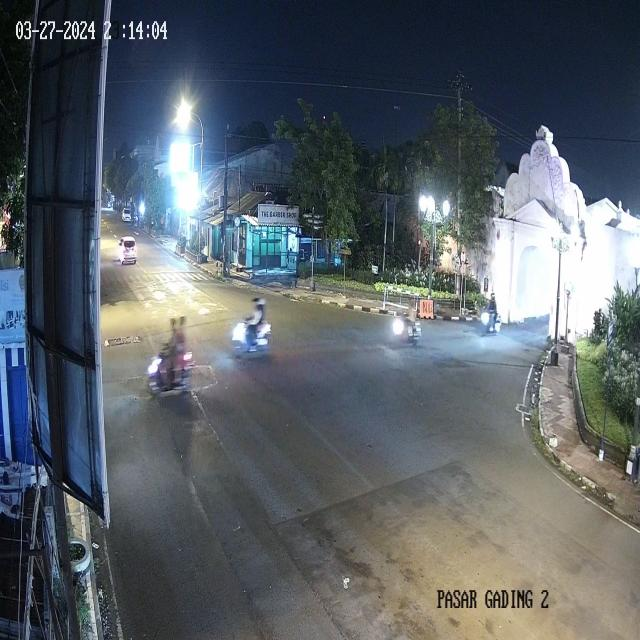car: (118, 236, 138, 266)
motorcycle: (146, 312, 192, 399), (230, 296, 272, 355), (393, 298, 424, 350), (480, 289, 500, 337)
